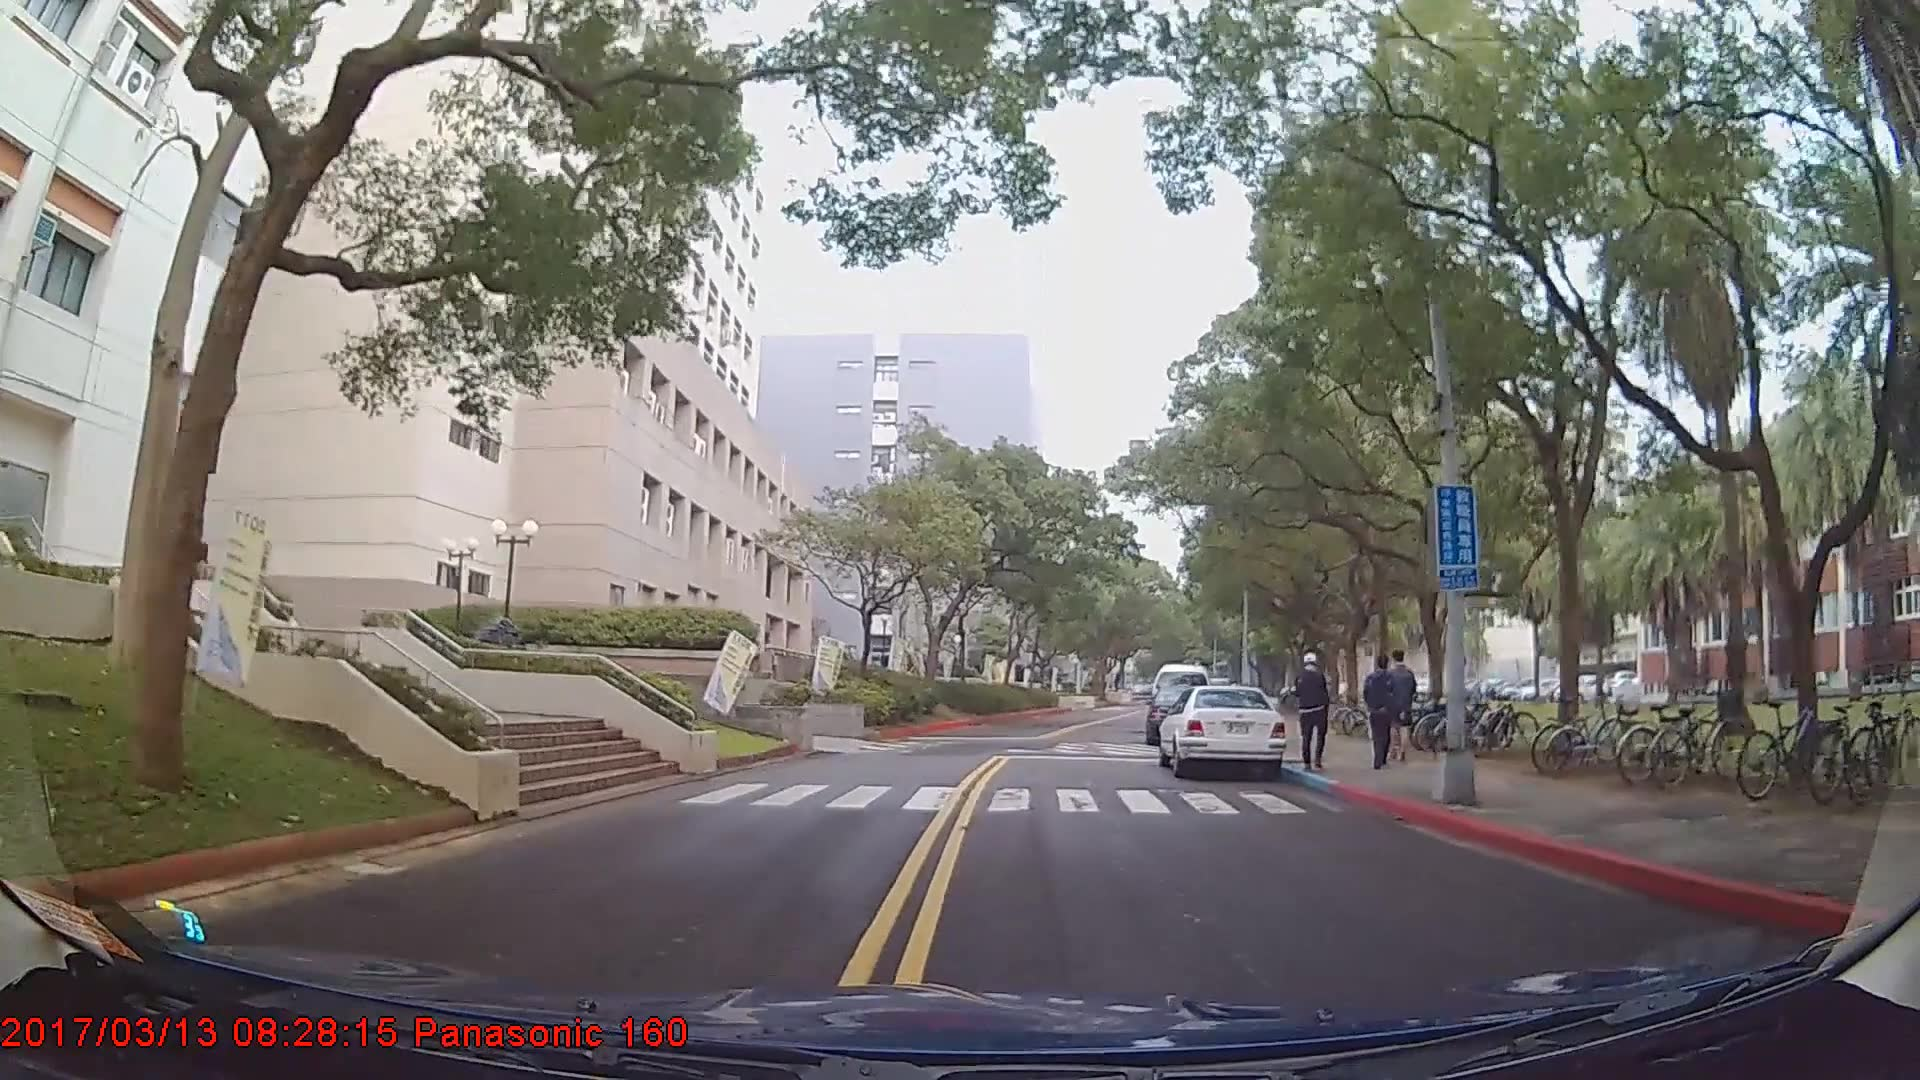pedestrian: (1365, 647, 1405, 770), (1299, 655, 1331, 772)
vehicle: (1155, 685, 1287, 780)
